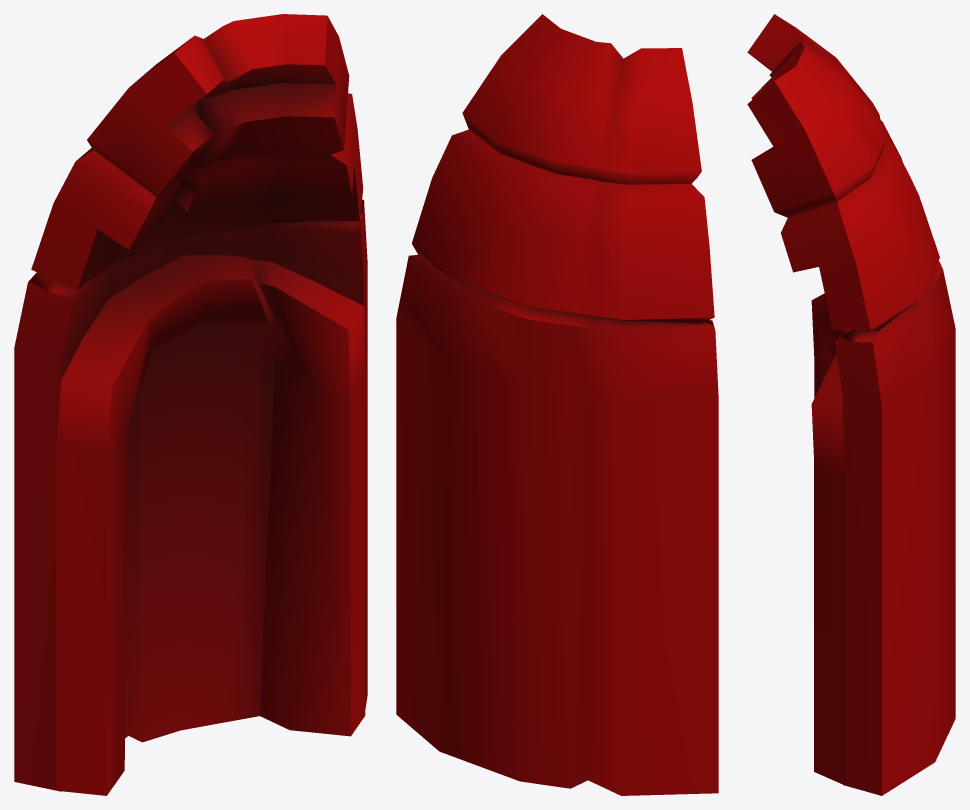
Rendered from buildings-ruins-ancientruins_v6.fbx.
3 views of the same model, side by side, from view 1: azimuth 30°, elevation 25°; view 2: azimuth 150°, elevation 25°; view 3: azimuth 270°, elevation 25° (orthographic). The views are drawn at different scales.
Visible parts, largest first — view 1: AncientRuins_v6; view 2: AncientRuins_v6; view 3: AncientRuins_v6.
Part boxes in pixels (x1,y1,x2,y2): AncientRuins_v6: [14, 14, 367, 795]; AncientRuins_v6: [396, 14, 718, 795]; AncientRuins_v6: [747, 14, 955, 795].
Bounding box in the file's own units: 4.14 × 8.4 × 2.36.
